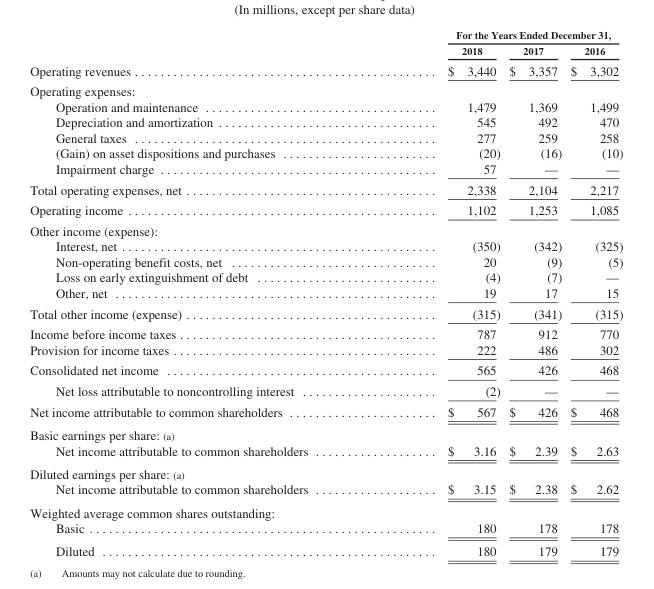table: (29, 28, 622, 558)
table column: (29, 28, 377, 558), (377, 28, 504, 558), (504, 28, 565, 558), (565, 28, 622, 558)
table column header: (29, 28, 622, 59)
table projected row header: (29, 422, 622, 442), (29, 461, 622, 481), (29, 500, 622, 519), (29, 80, 622, 98), (29, 220, 622, 238)
table row: (29, 59, 622, 80), (29, 178, 622, 199), (29, 199, 622, 220), (29, 302, 622, 323), (29, 359, 622, 380), (29, 380, 622, 401), (29, 401, 622, 422), (29, 422, 622, 442), (29, 461, 622, 481), (29, 519, 622, 539), (29, 442, 622, 461), (29, 481, 622, 500), (29, 500, 622, 519), (29, 539, 622, 558), (29, 80, 622, 98), (29, 160, 622, 178), (29, 220, 622, 238), (29, 284, 622, 302), (29, 323, 622, 341), (29, 341, 622, 359), (29, 42, 622, 59), (29, 98, 622, 114), (29, 129, 622, 145), (29, 253, 622, 269), (29, 114, 622, 129), (29, 145, 622, 160), (29, 238, 622, 253), (29, 269, 622, 284), (29, 28, 622, 42)
table spanning cell: (377, 28, 622, 42)
